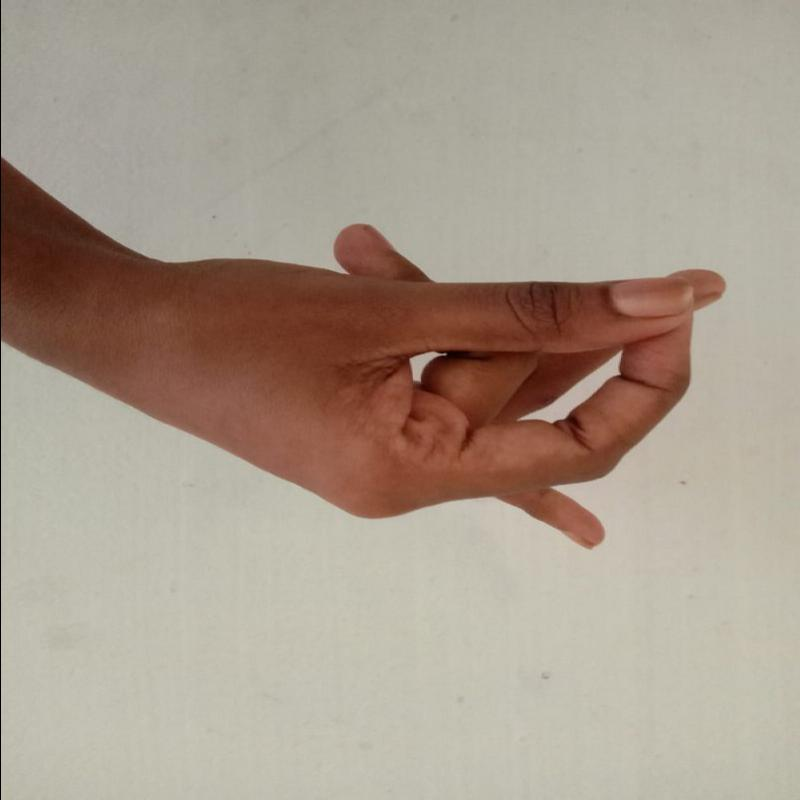Katakam: (148, 213, 731, 565)
